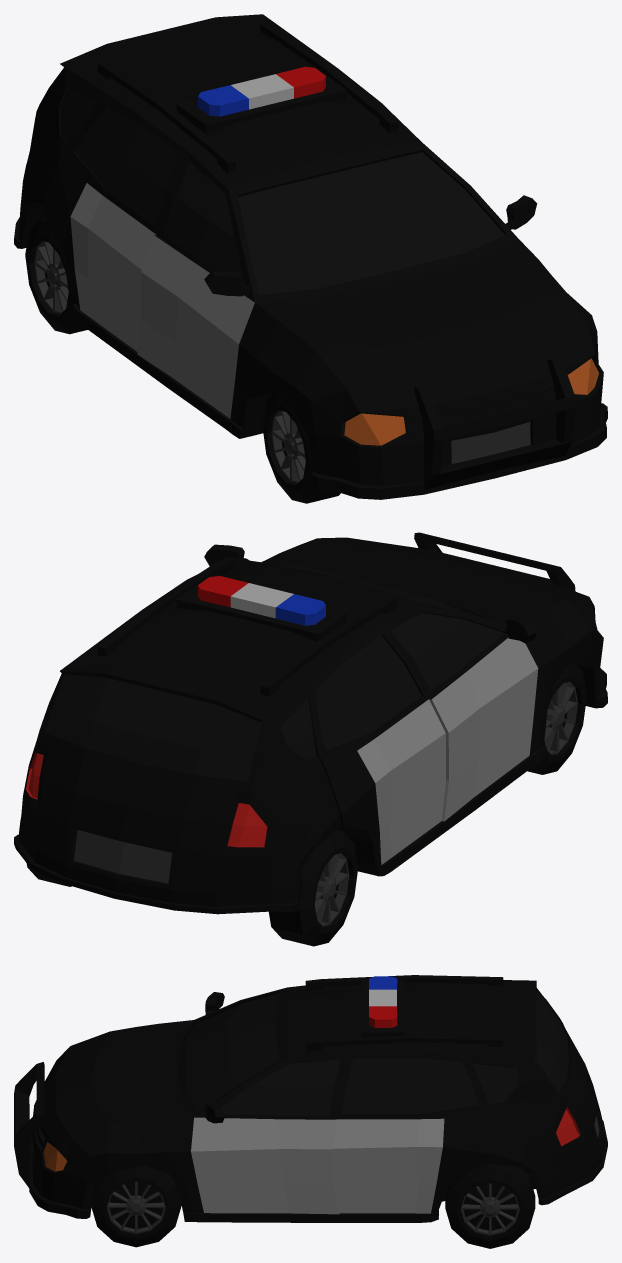
The model's file is Cop_SUV.obj.
The picture shows the model from 3 angles, top to bottom: view 1: azimuth 30°, elevation 25°; view 2: azimuth 150°, elevation 25°; view 3: azimuth 270°, elevation 25°; orthographic projection. The views are drawn at different scales.
Parts seen in each view (by area): view 1: Cop_SUV_Cube.004, Cop_SUV_FrontRightWheel_Cylinder.007, Cop__SUV_BackWheels_Cylinder.006; view 2: Cop_SUV_Cube.004, Cop__SUV_BackWheels_Cylinder.006, Cop_SUV_FrontRightWheel_Cylinder.007; view 3: Cop_SUV_Cube.004, Cop__SUV_BackWheels_Cylinder.006, Cop_SUV_FrontLeftWheel_Cylinder.008.
Part boxes in pixels (x1,y1,x2,y2): Cop_SUV_Cube.004: (14,14,607,499); Cop_SUV_FrontRightWheel_Cylinder.007: (262,391,340,503); Cop__SUV_BackWheels_Cylinder.006: (25,218,87,334); Cop_SUV_Cube.004: (14,532,607,914); Cop__SUV_BackWheels_Cylinder.006: (26,830,358,946); Cop_SUV_FrontRightWheel_Cylinder.007: (527,663,586,774); Cop_SUV_Cube.004: (14,975,607,1222); Cop__SUV_BackWheels_Cylinder.006: (445,1163,535,1248); Cop_SUV_FrontLeftWheel_Cylinder.008: (91,1166,181,1247).
Size of the model in its own units: 2.1 by 1.6 by 4.31.
